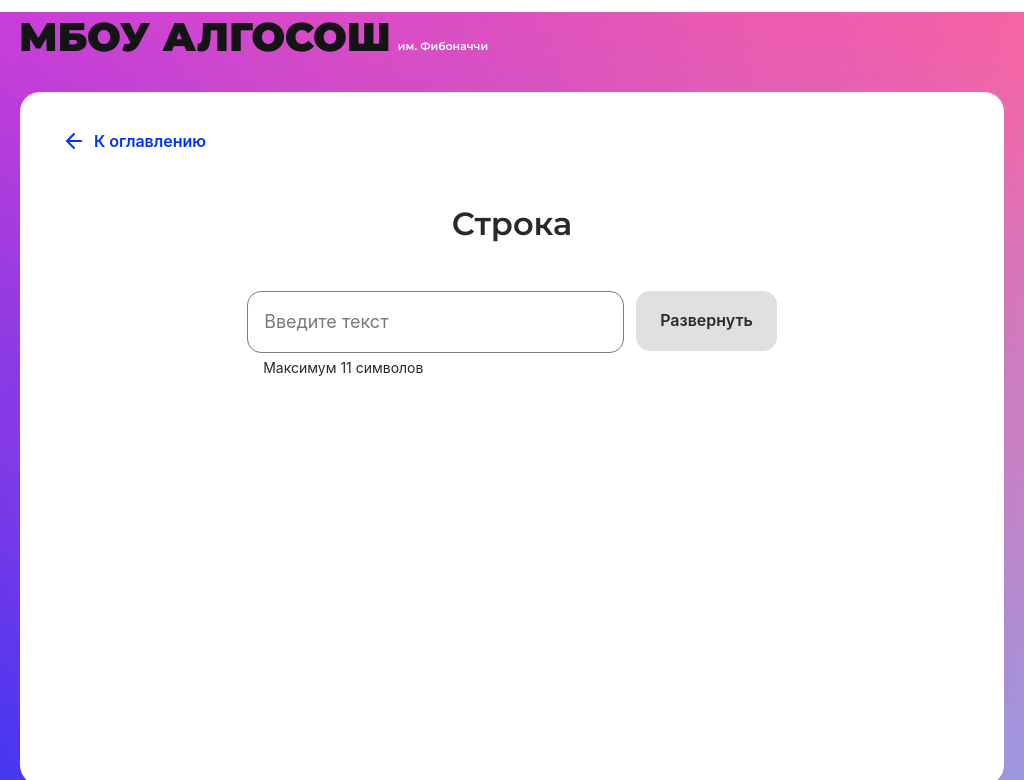
Test: string tests › a string with an odd number of characters unfolds correctly
In the field with test id "string-input": {"x": 436, "y": 322} left=247, top=291, right=624, bottom=353, type "qwe"
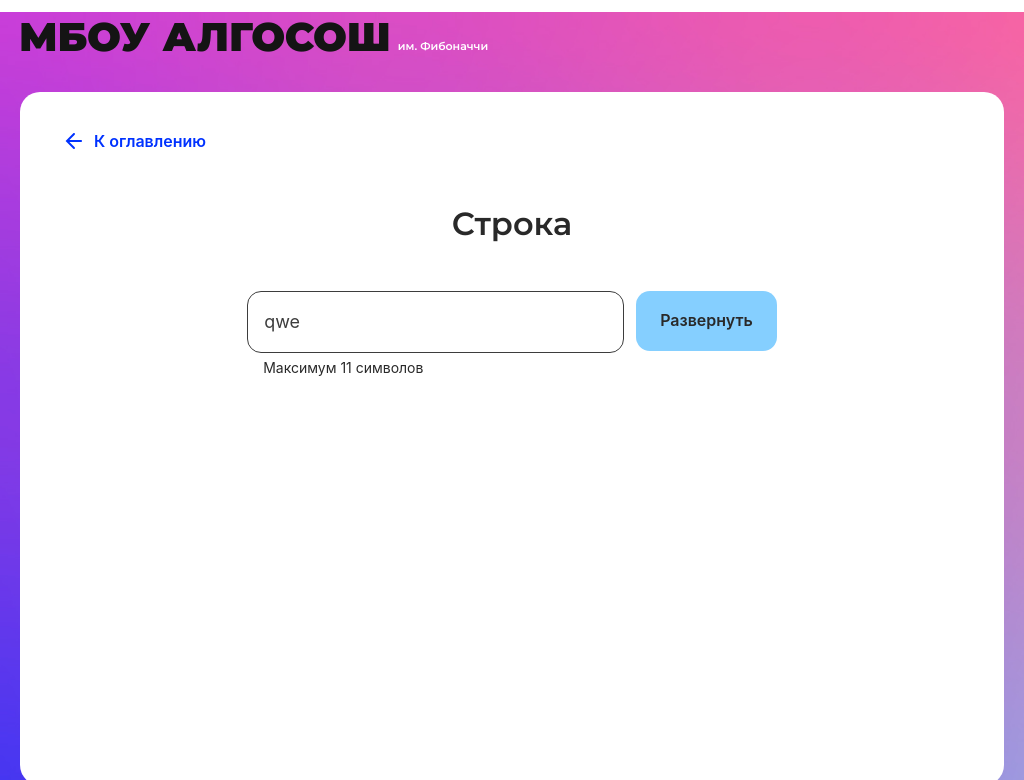
expect the element with test id "string-submit-btn" is enabled: met
Click the button with test id "string-submit-btn": {"x": 707, "y": 321} left=636, top=291, right=777, bottom=351
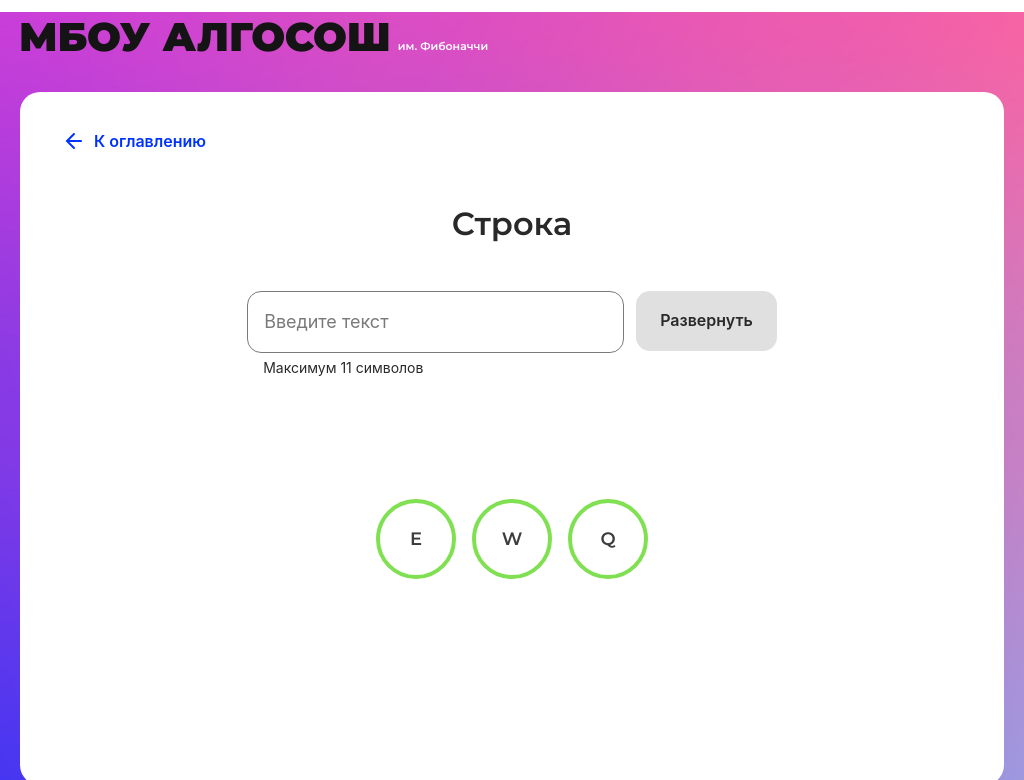
expect the element with test id "circle" reads "Q": met, box left=568, top=499, right=648, bottom=579
expect the element with test id "circle" reads "E": met, box left=376, top=499, right=456, bottom=579
expect the element with test id "circle" reads "W": met, box left=472, top=499, right=552, bottom=579
